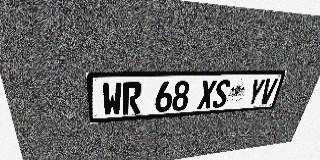6: (154, 81, 174, 112)
8: (171, 80, 191, 111)
R: (123, 82, 142, 115)
S: (212, 79, 232, 108)
V: (258, 78, 278, 105)
W: (102, 82, 122, 116)
X: (197, 80, 217, 109)
Y: (246, 79, 266, 106)
